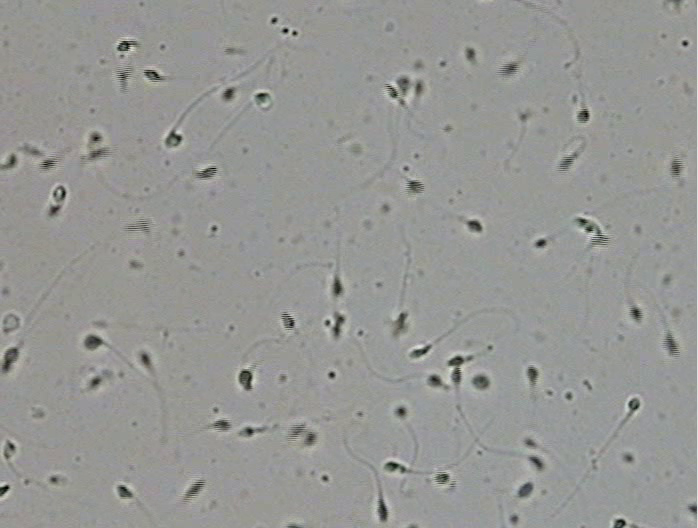S: (574, 217, 603, 235), (183, 479, 205, 501), (661, 335, 680, 358), (1, 348, 19, 372), (331, 312, 345, 338), (125, 219, 150, 233), (238, 369, 253, 391), (497, 63, 519, 78), (195, 166, 218, 180), (115, 65, 132, 83), (84, 335, 103, 351), (557, 155, 574, 172), (165, 131, 183, 147), (288, 424, 304, 442), (88, 148, 110, 161), (281, 311, 296, 330), (405, 180, 425, 194), (377, 497, 388, 522), (517, 482, 534, 498), (628, 304, 643, 322), (52, 185, 67, 203), (670, 158, 684, 177), (116, 39, 138, 51), (395, 312, 407, 334), (142, 69, 162, 82), (526, 364, 539, 384), (383, 83, 399, 99), (396, 77, 411, 94), (528, 455, 544, 470), (473, 375, 490, 389), (3, 440, 16, 458), (38, 158, 57, 170), (331, 278, 343, 297), (426, 374, 442, 388), (434, 472, 451, 485), (590, 235, 610, 246), (213, 420, 231, 432), (410, 347, 428, 359), (221, 87, 235, 102), (117, 484, 132, 498), (576, 108, 590, 123), (467, 220, 483, 233), (303, 432, 317, 446), (255, 92, 270, 105), (139, 352, 152, 367), (451, 367, 462, 384), (628, 397, 641, 411), (88, 132, 103, 144), (448, 356, 464, 367), (6, 154, 18, 168), (88, 376, 101, 388), (394, 405, 407, 417), (240, 427, 255, 437), (384, 462, 399, 472), (48, 205, 61, 216), (524, 437, 537, 448), (613, 518, 627, 528), (414, 81, 423, 96), (534, 238, 547, 248), (465, 48, 475, 60), (1, 484, 10, 497), (688, 503, 697, 514), (286, 523, 303, 528)
